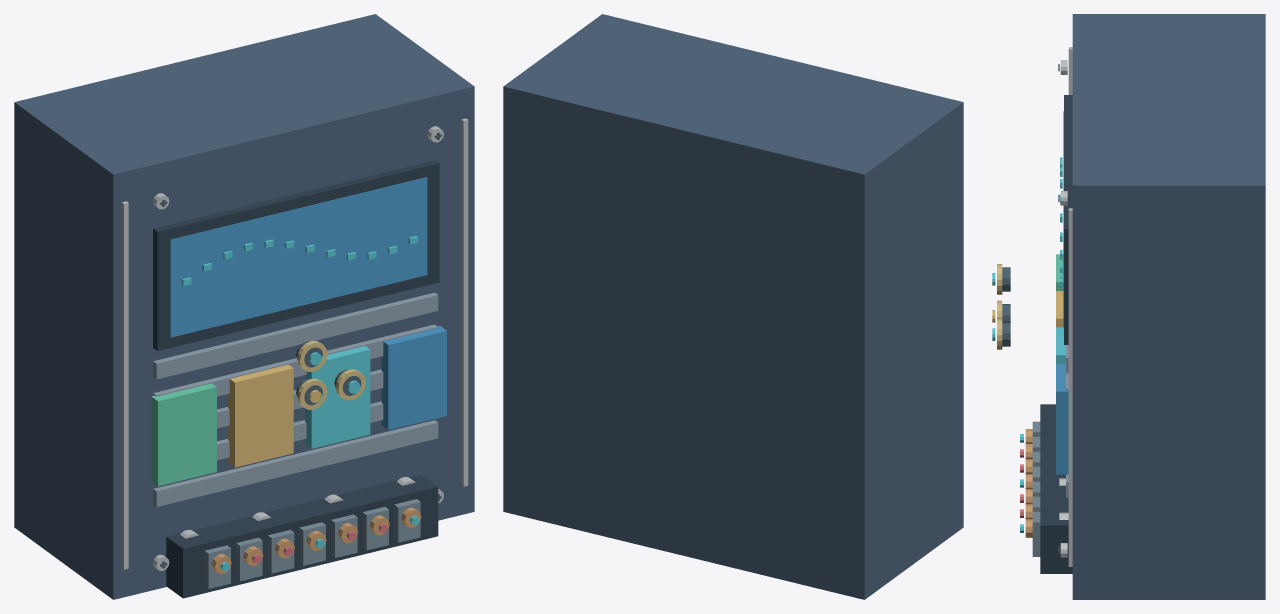
The model's file is 50_L83_PriorityLoadSwitchingRack.glb.
3 views of the same model, side by side, from view 1: azimuth 30°, elevation 25°; view 2: azimuth 150°, elevation 25°; view 3: azimuth 270°, elevation 25° (orthographic). The views are drawn at different scales.
Visible parts, largest first — view 1: PriorityLoadSwitchingRack_Node_0000, PriorityLoadSwitchingRack_Node_0008, PriorityLoadSwitchingRack_Node_0007, PriorityLoadSwitchingRack_Node_0046, PriorityLoadSwitchingRack_Node_0068, PriorityLoadSwitchingRack_Node_0069, PriorityLoadSwitchingRack_Node_0071, PriorityLoadSwitchingRack_Node_0021, PriorityLoadSwitchingRack_Node_0025, PriorityLoadSwitchingRack_Node_0070, PriorityLoadSwitchingRack_Node_0006, PriorityLoadSwitchingRack_Node_0005 (+10 smaller); view 2: PriorityLoadSwitchingRack_Node_0000; view 3: PriorityLoadSwitchingRack_Node_0000, PriorityLoadSwitchingRack_Node_0046, PriorityLoadSwitchingRack_Node_0006, PriorityLoadSwitchingRack_Node_0007, PriorityLoadSwitchingRack_Node_0071, PriorityLoadSwitchingRack_Node_0065.
Part boxes in pixels (box(x1,y1,x2,y2)): PriorityLoadSwitchingRack_Node_0000: box(14, 14, 474, 599); PriorityLoadSwitchingRack_Node_0008: box(170, 177, 427, 337); PriorityLoadSwitchingRack_Node_0007: box(153, 160, 439, 350); PriorityLoadSwitchingRack_Node_0046: box(166, 474, 438, 598); PriorityLoadSwitchingRack_Node_0068: box(151, 383, 216, 486); PriorityLoadSwitchingRack_Node_0069: box(228, 364, 293, 467); PriorityLoadSwitchingRack_Node_0071: box(381, 326, 446, 429); PriorityLoadSwitchingRack_Node_0021: box(153, 420, 438, 506); PriorityLoadSwitchingRack_Node_0025: box(153, 292, 438, 379); PriorityLoadSwitchingRack_Node_0070: box(305, 346, 370, 448); PriorityLoadSwitchingRack_Node_0006: box(461, 118, 468, 486); PriorityLoadSwitchingRack_Node_0005: box(122, 201, 128, 569); PriorityLoadSwitchingRack_Node_0000: box(503, 14, 963, 599); PriorityLoadSwitchingRack_Node_0000: box(1072, 14, 1265, 599); PriorityLoadSwitchingRack_Node_0046: box(1040, 404, 1072, 573); PriorityLoadSwitchingRack_Node_0006: box(1068, 208, 1072, 566); PriorityLoadSwitchingRack_Node_0007: box(1064, 95, 1072, 344); PriorityLoadSwitchingRack_Node_0071: box(1056, 364, 1068, 474); PriorityLoadSwitchingRack_Node_0065: box(1032, 511, 1040, 556).
Size of the model in its own units: 1.6 by 1.8 by 1.08.
